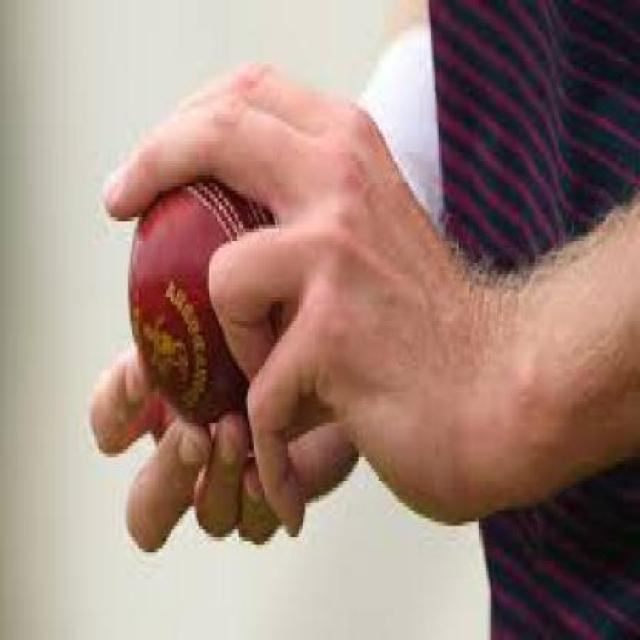ball: (73, 104, 336, 440)
